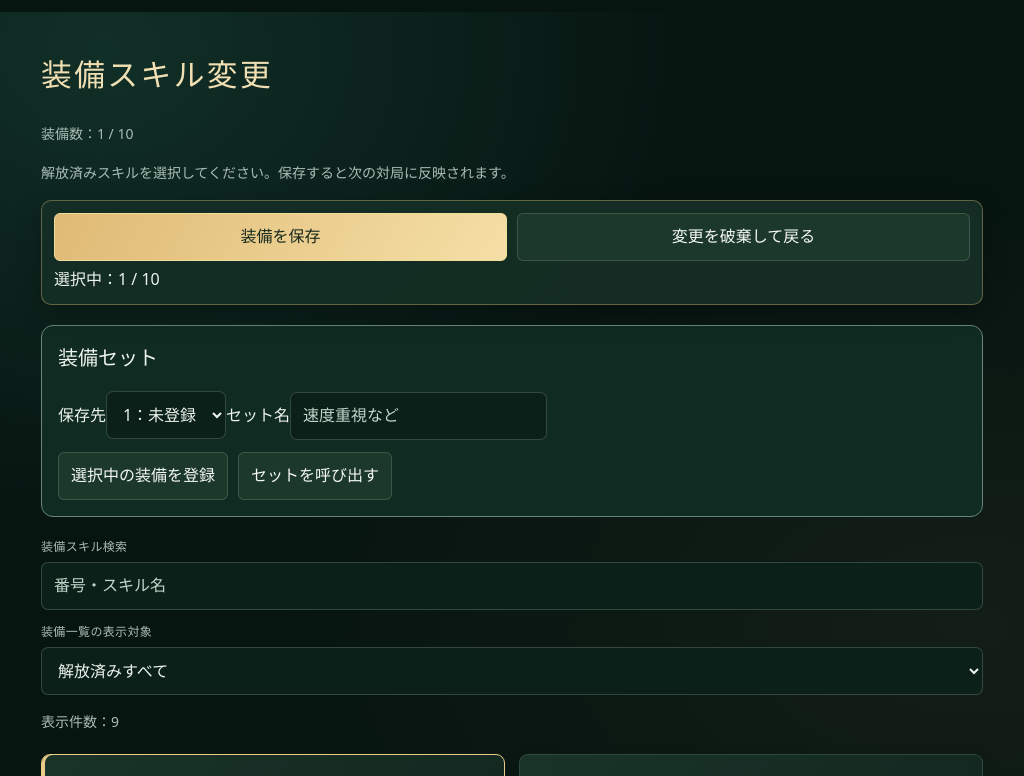
Test: 装備中だけに絞って解除し、全表示に戻して再装備できる
Step 1. Select "装備中だけ" in the dropdown labelled "装備一覧の表示対象" → (512, 671), box [41,647,983,695]
(page scrolled)
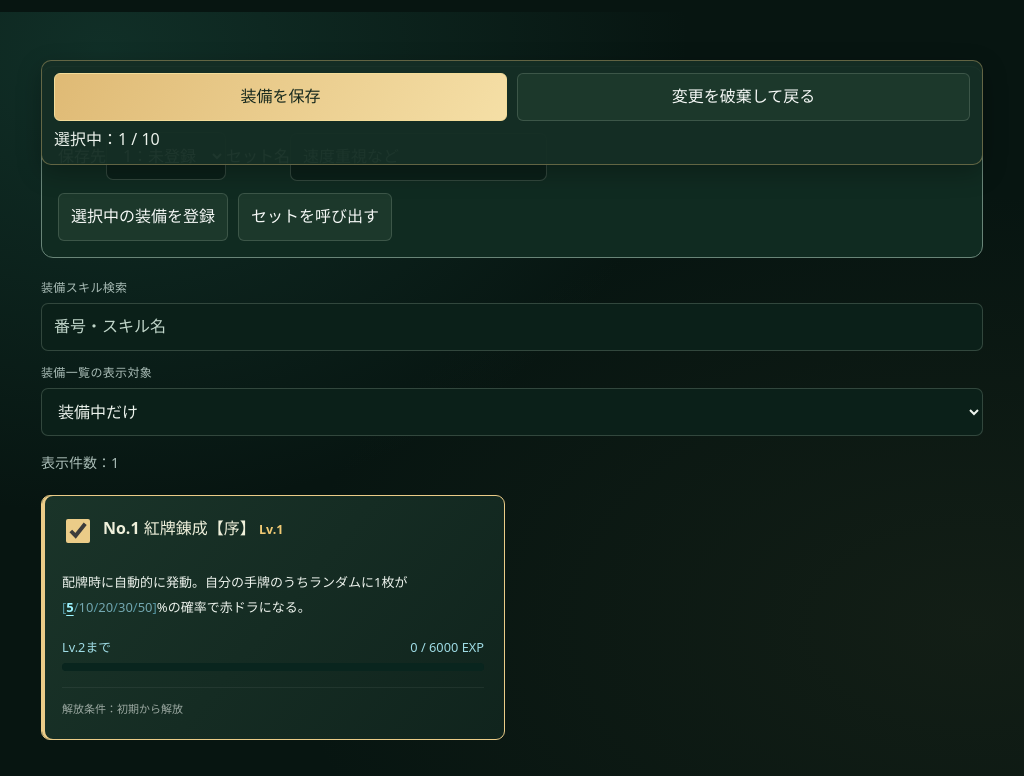
Now the number of checkboxes is 1
Step 2. Click the checkbox → (78, 531), box [66,519,90,543]
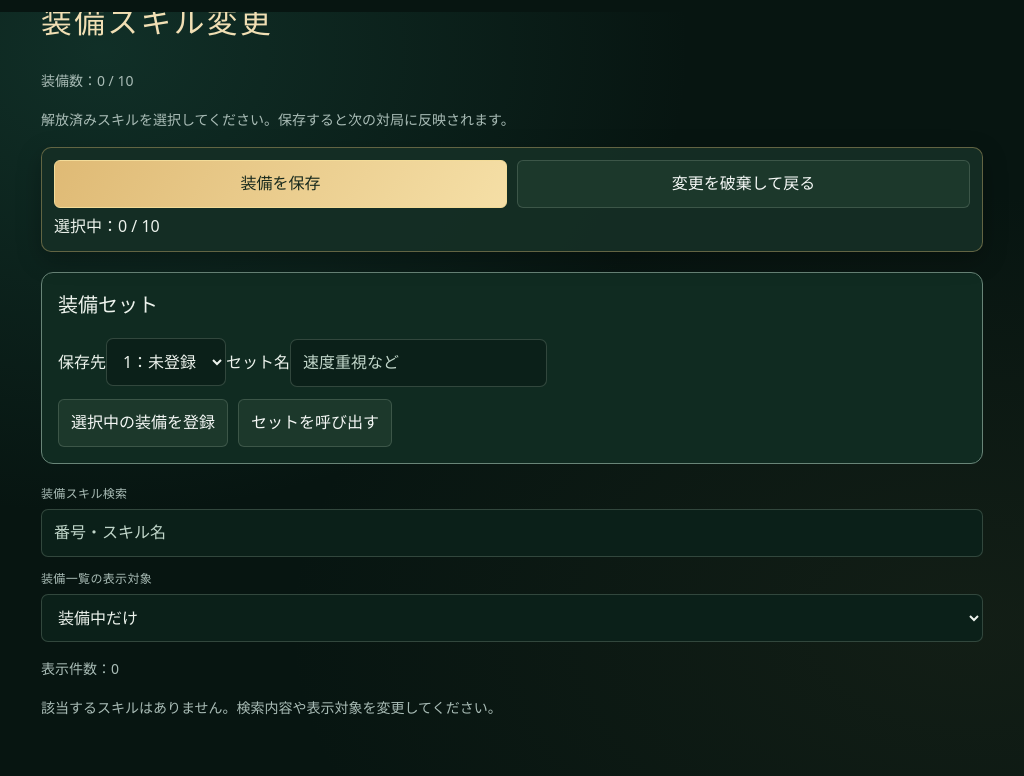
Now no checkboxes are shown
Now the text "選択中：0 / 10" is shown, box [54,214,160,236]
Step 3. Select "解放済みすべて" in the dropdown labelled "装備一覧の表示対象" → (512, 618), box [41,594,983,642]
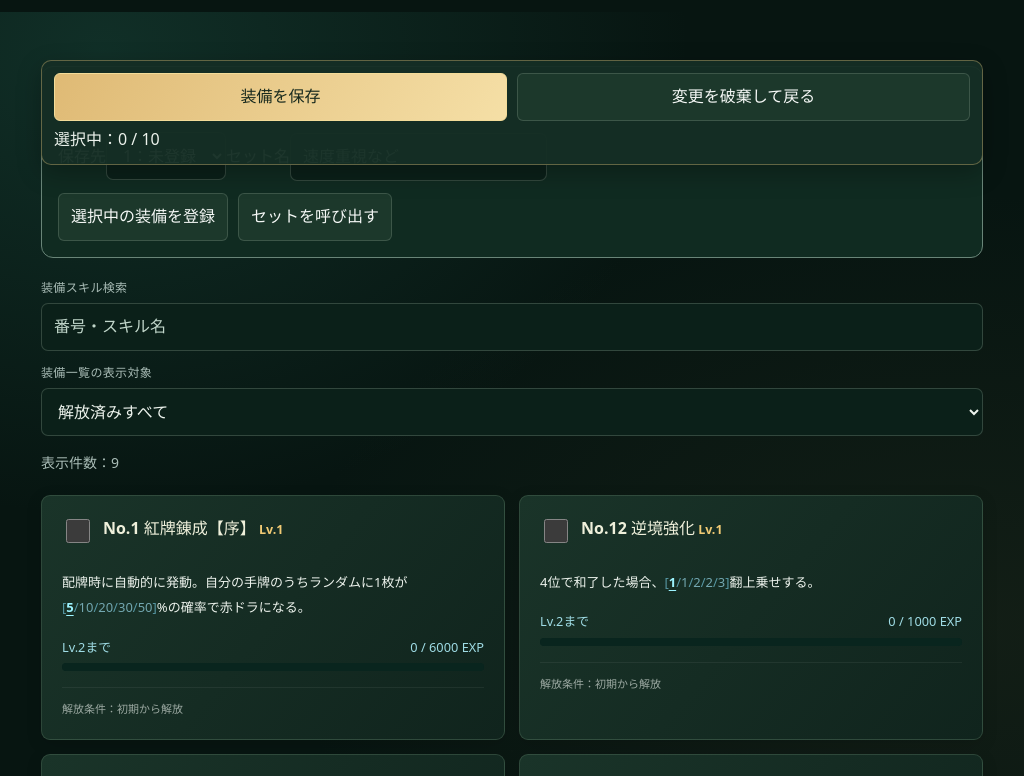
Step 4. Type "紅牌錬成【序】" into the field labelled "装備スキル検索" → (512, 327), box [41,303,983,351]
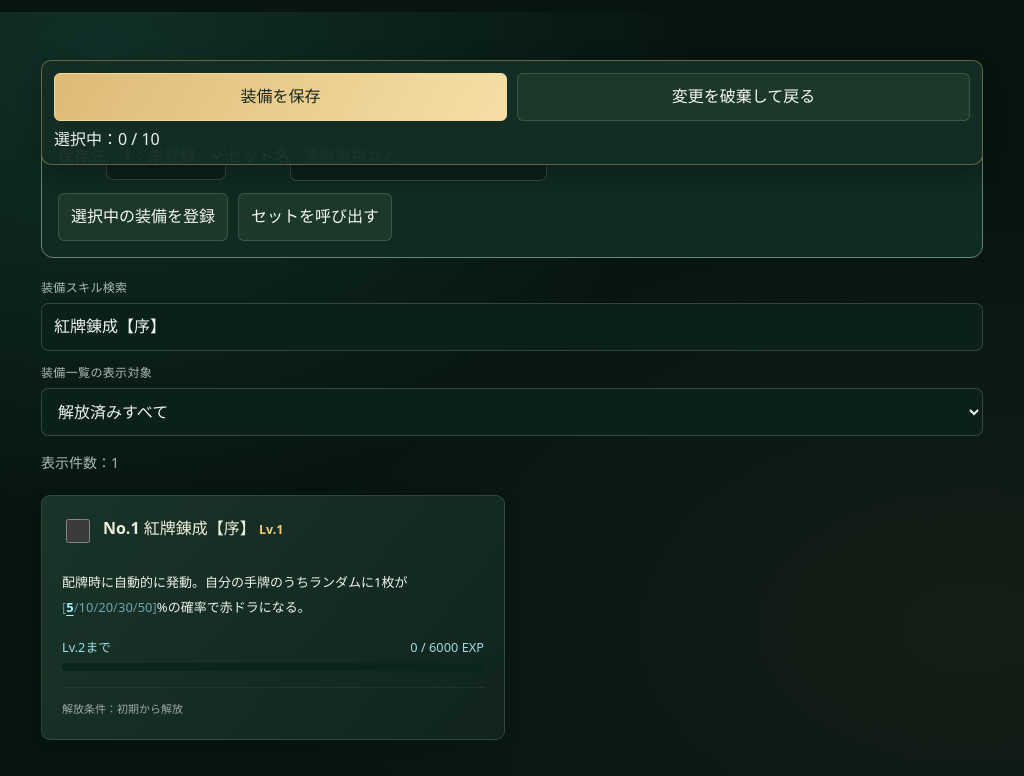
Step 5. Click the checkbox → (78, 531), box [66,519,90,543]
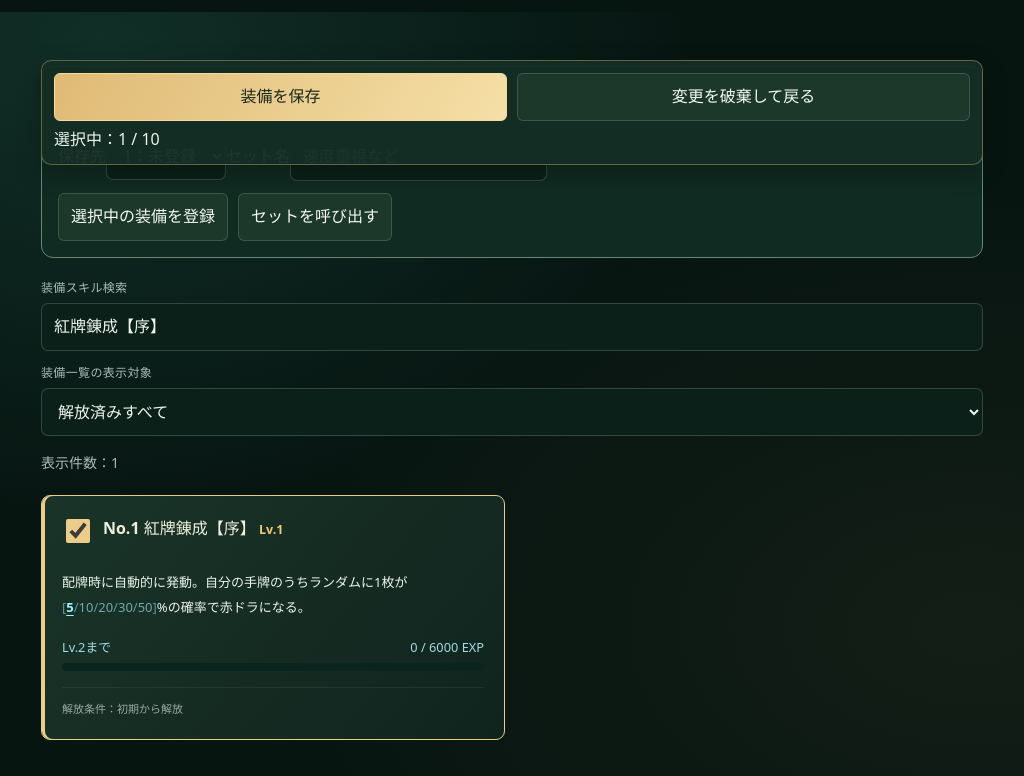
Now the text "選択中：1 / 10" is shown, box [54,128,160,150]
